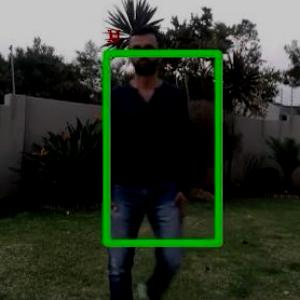follow: (96, 14, 206, 299)
